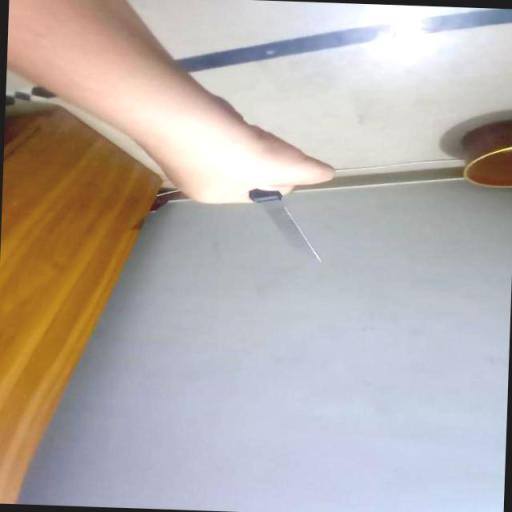knife: (235, 169, 327, 268)
